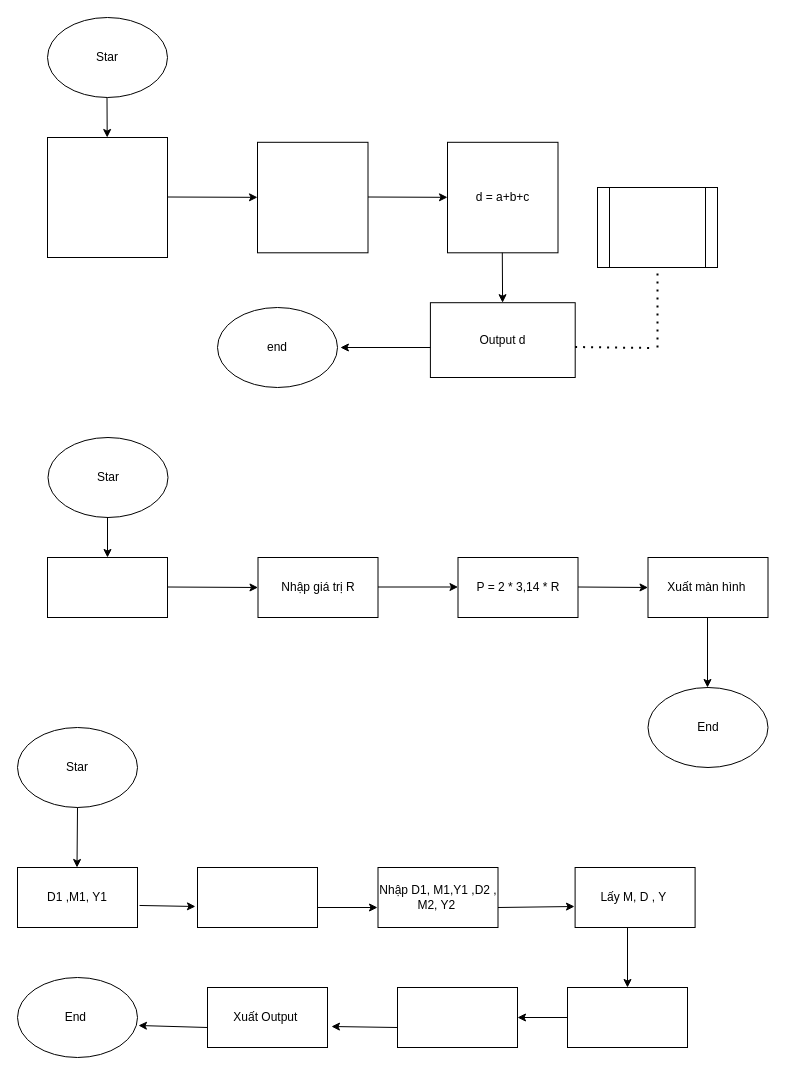
The diagram is 786 pixels wide and 1075 high, and some of its shapes have lost their labels. Here are the shapes that lost their labels. From the top down, the centre of each, then its label:
At point (107, 197): "Khai báo int cho a,b,c,d".
At point (312, 197): "Input a,b,c".
At point (657, 227): "Hàm in màn hình d".
At point (107, 587): "double P,R".
At point (257, 897): "D2, M2 ,Y2".
At point (457, 1017): "Output = T1 >= T2".
At point (627, 1017): "T1 = Y ht - Y1 T2 = Y ht - Y2".
